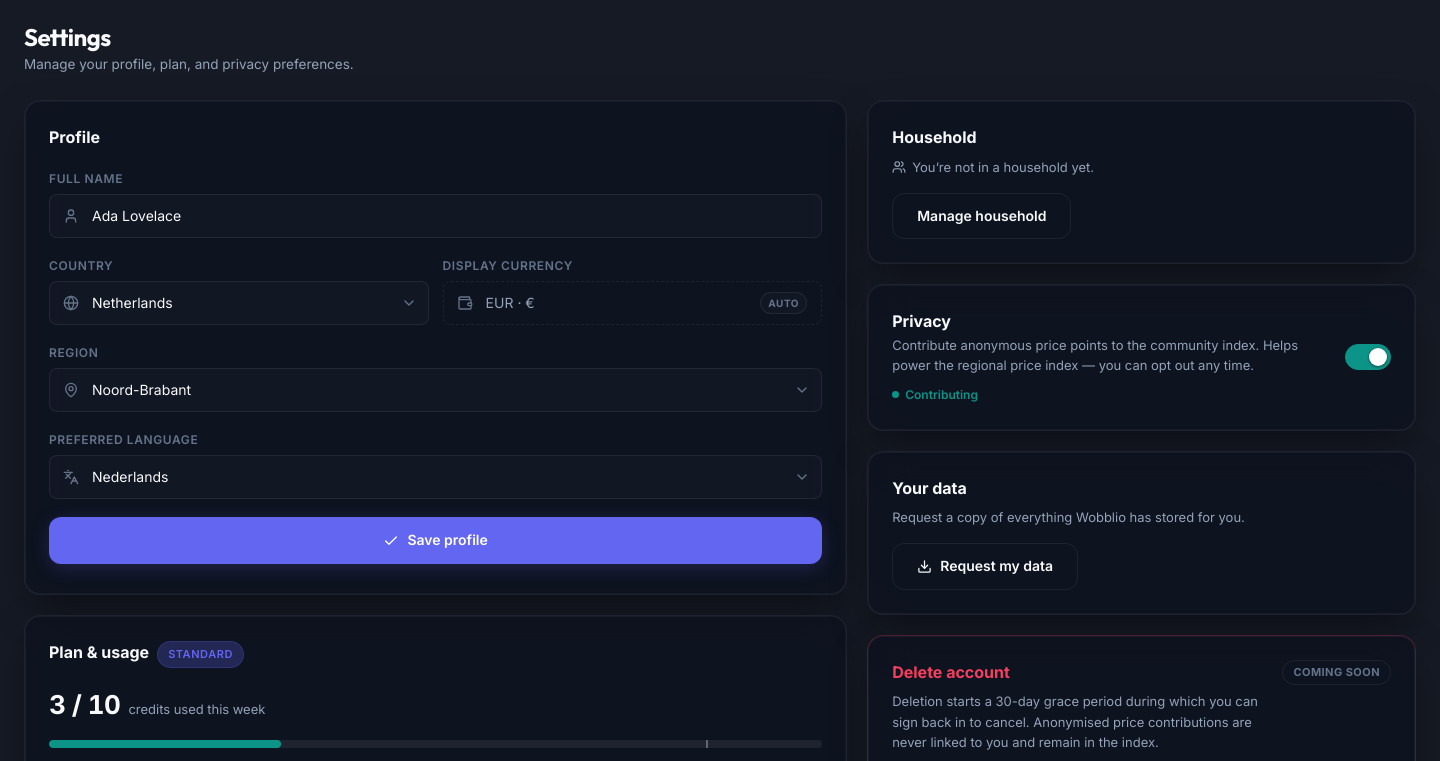
SettingsPage › resets the selected region when the country changes
Expected: the dropdown with test id "settings-region" shows "Noord-Brabant", [49,368,822,412]
Select "Germany" in the dropdown with test id "settings-country" at (239, 303), box [49,281,429,325]
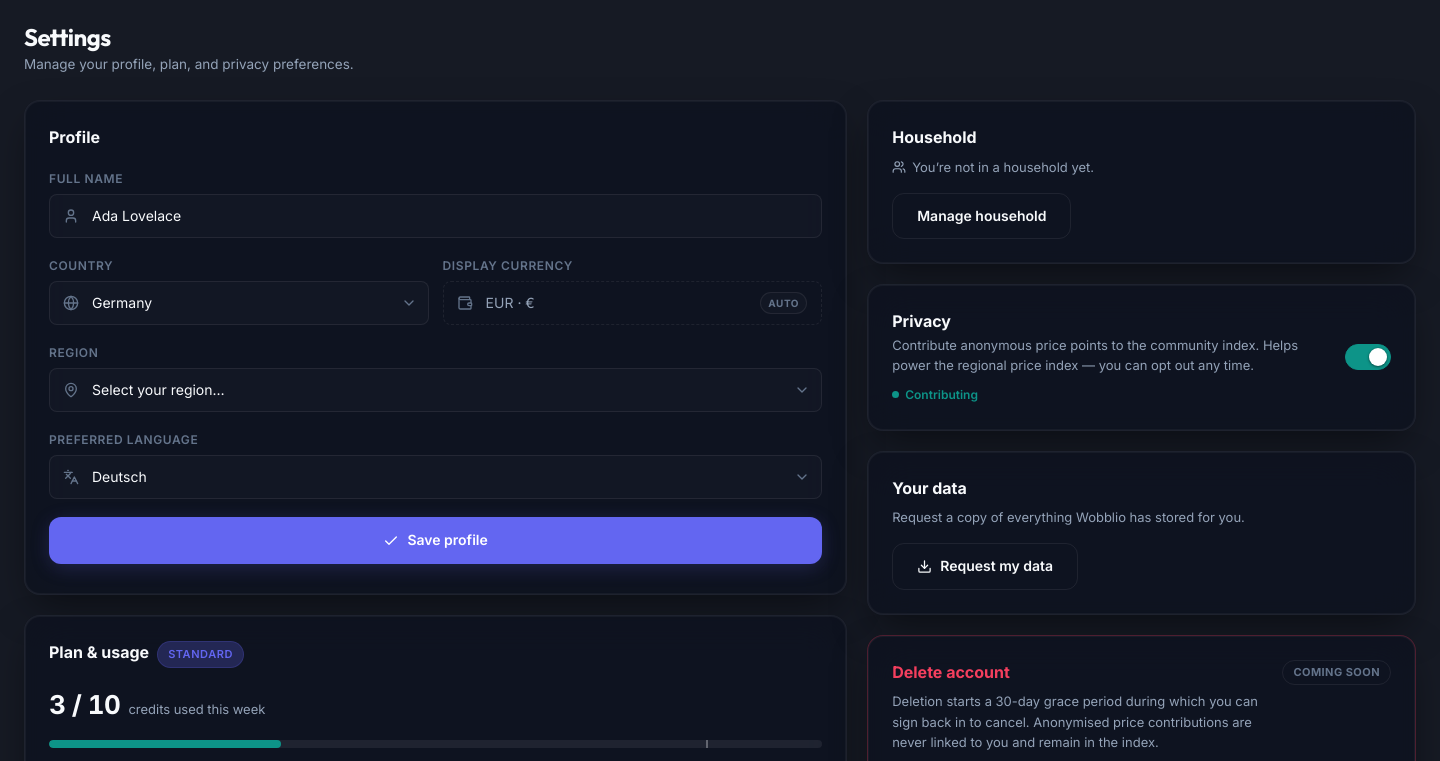
Expected: the dropdown with test id "settings-region" shows "Select your region…", [49,368,822,412]
